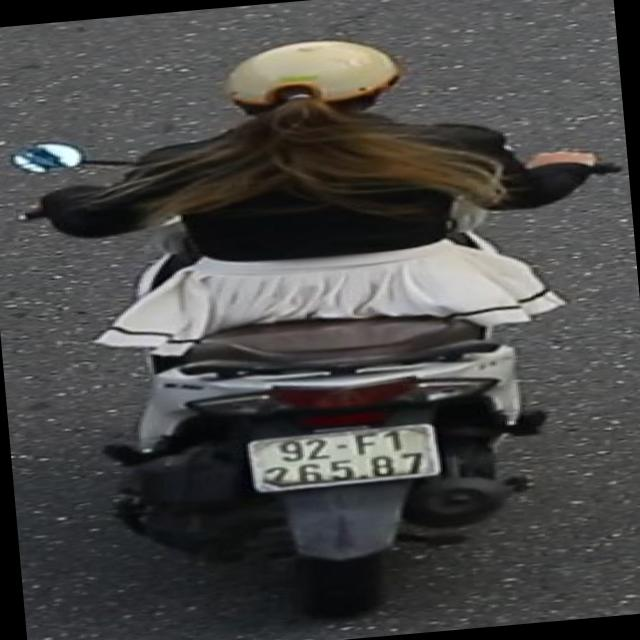LP: (234, 414, 469, 506)
helmet: (210, 23, 403, 128)
